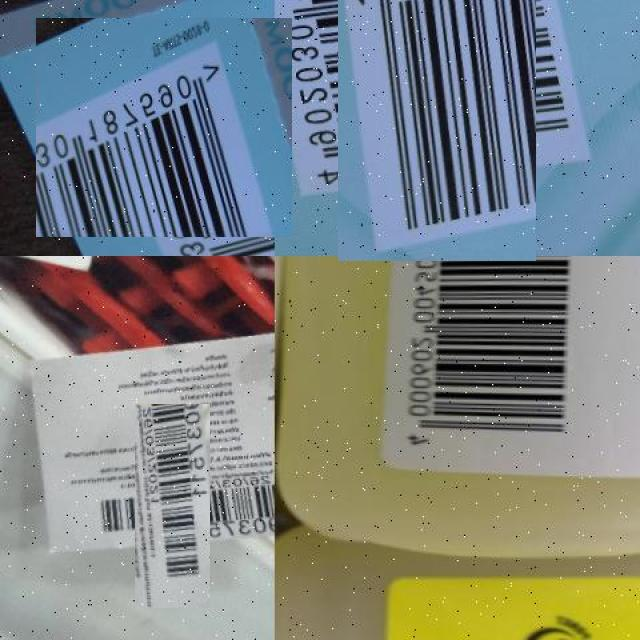Barcode: (306, 0, 568, 230), (45, 9, 284, 247), (381, 256, 591, 463), (102, 436, 242, 576)
